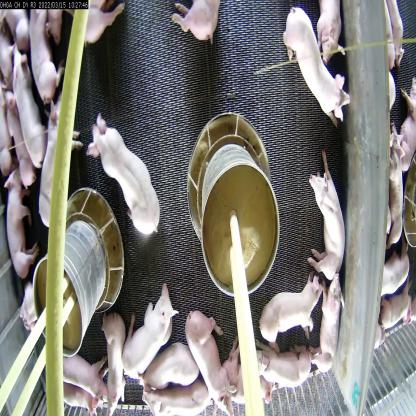Pig: (80, 89, 160, 238), (280, 4, 350, 126), (296, 134, 351, 287), (26, 79, 79, 235), (257, 272, 331, 356), (88, 307, 145, 415), (302, 254, 350, 382), (185, 307, 234, 415), (8, 44, 48, 172), (125, 281, 174, 381), (252, 343, 313, 416), (133, 330, 193, 404), (52, 350, 119, 412), (3, 162, 33, 289), (149, 365, 223, 415), (26, 6, 63, 106), (226, 340, 269, 414), (168, 0, 224, 55), (305, 0, 349, 59)
